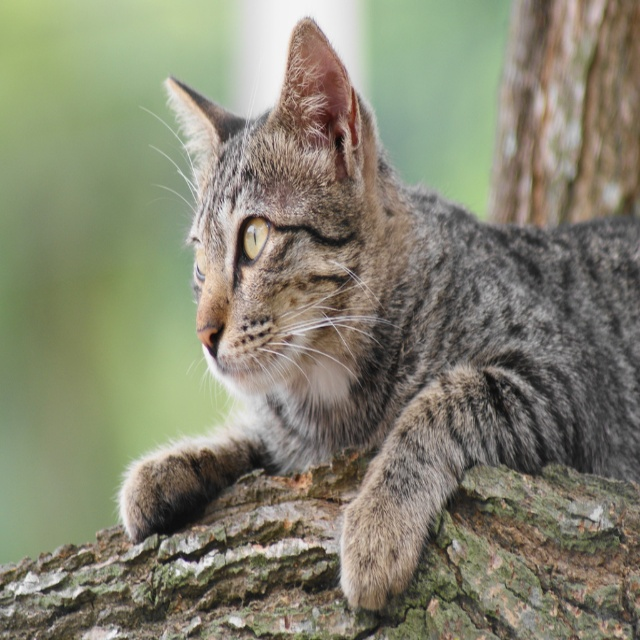Lynx: (113, 11, 640, 611)
